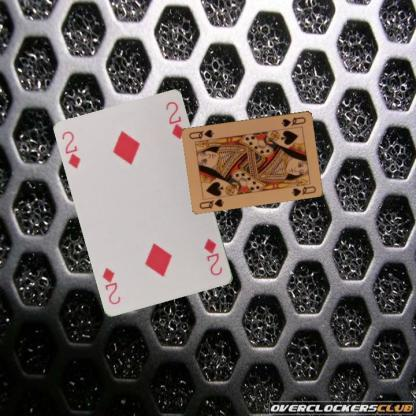2d: (60, 128, 82, 170), (202, 236, 224, 277)
Qs: (279, 114, 307, 128), (197, 196, 225, 210)
